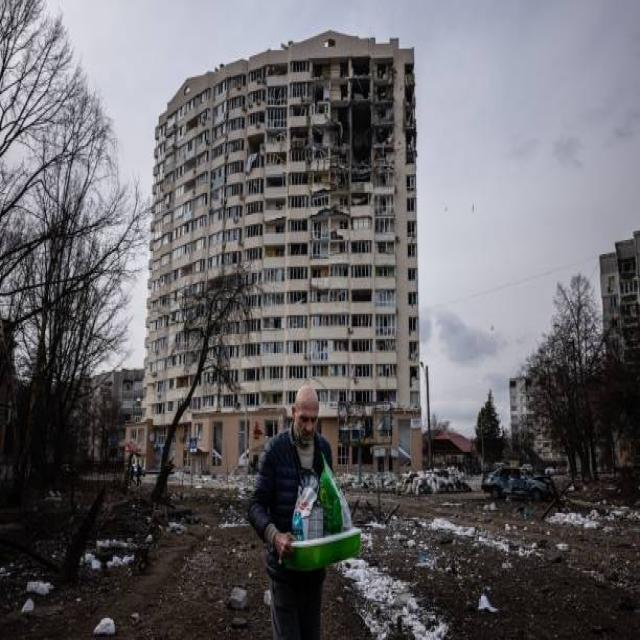building: (139, 28, 423, 477)
